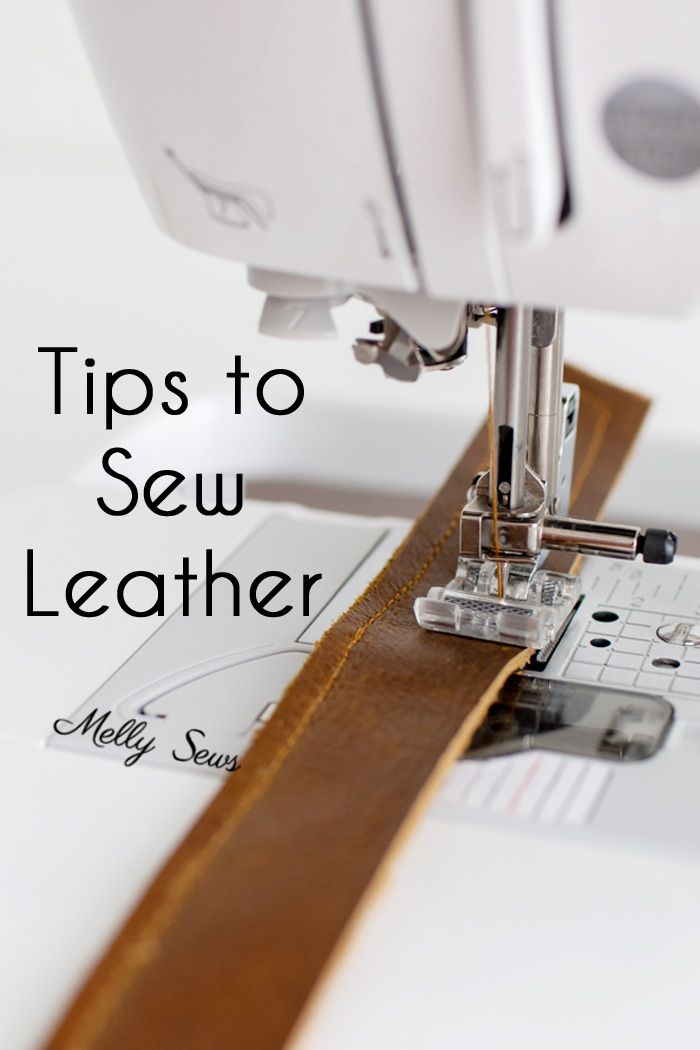cuero: (41, 353, 653, 1050)
